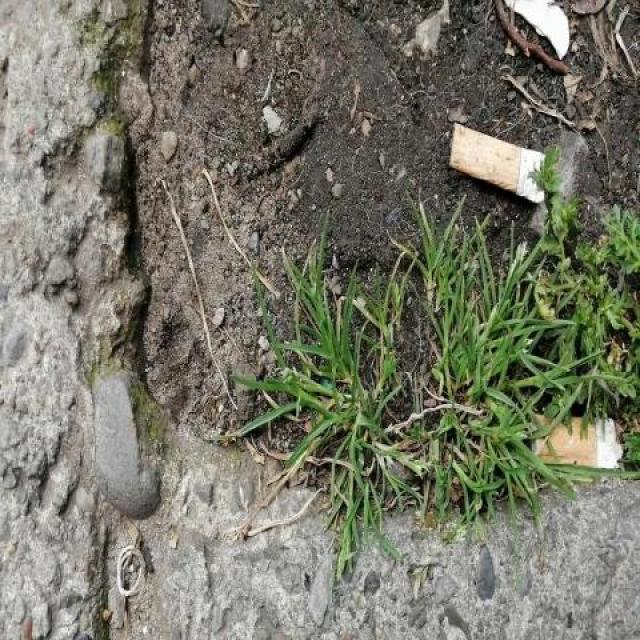non-organic waste: (445, 116, 552, 211), (520, 404, 628, 477)
